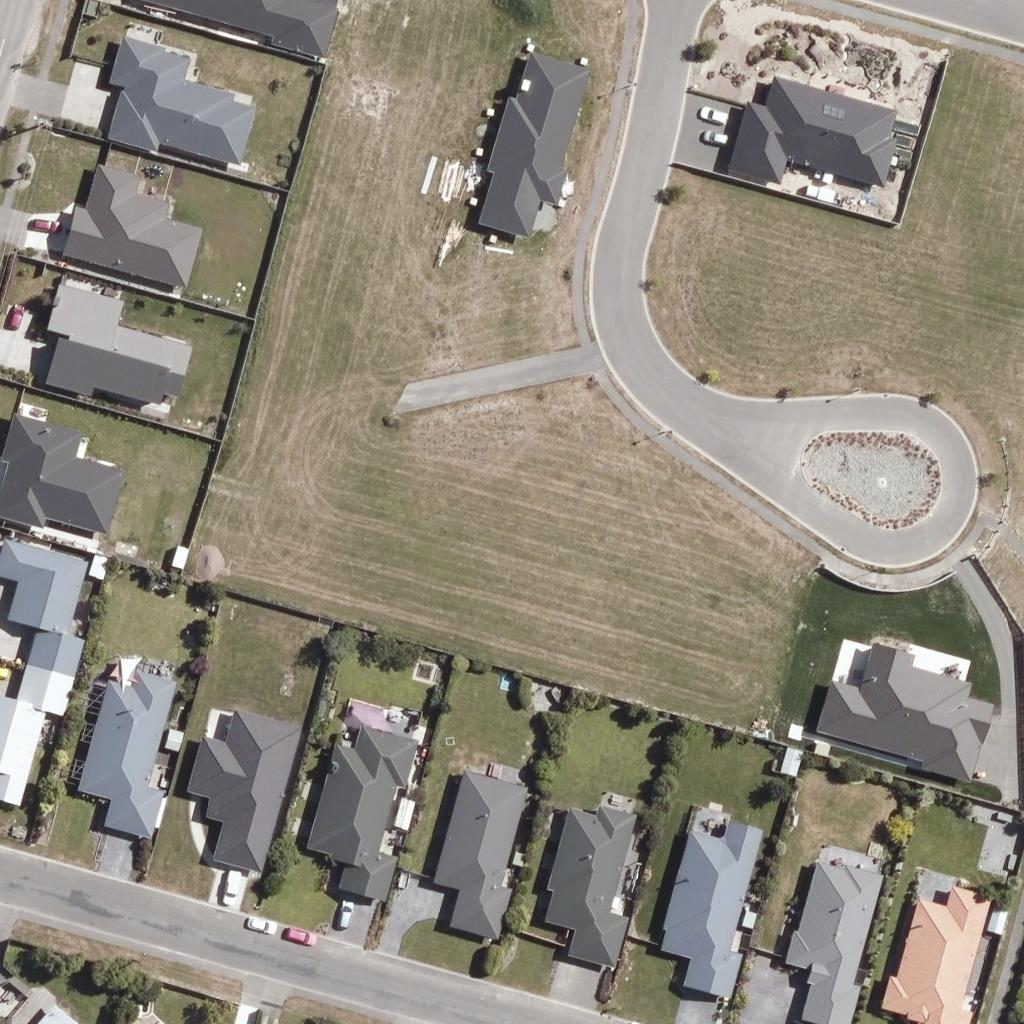car: (698, 98, 732, 132), (699, 119, 733, 153), (28, 207, 62, 241), (214, 872, 248, 906), (326, 897, 360, 931), (242, 906, 276, 940), (282, 917, 316, 951), (0, 299, 33, 333)
